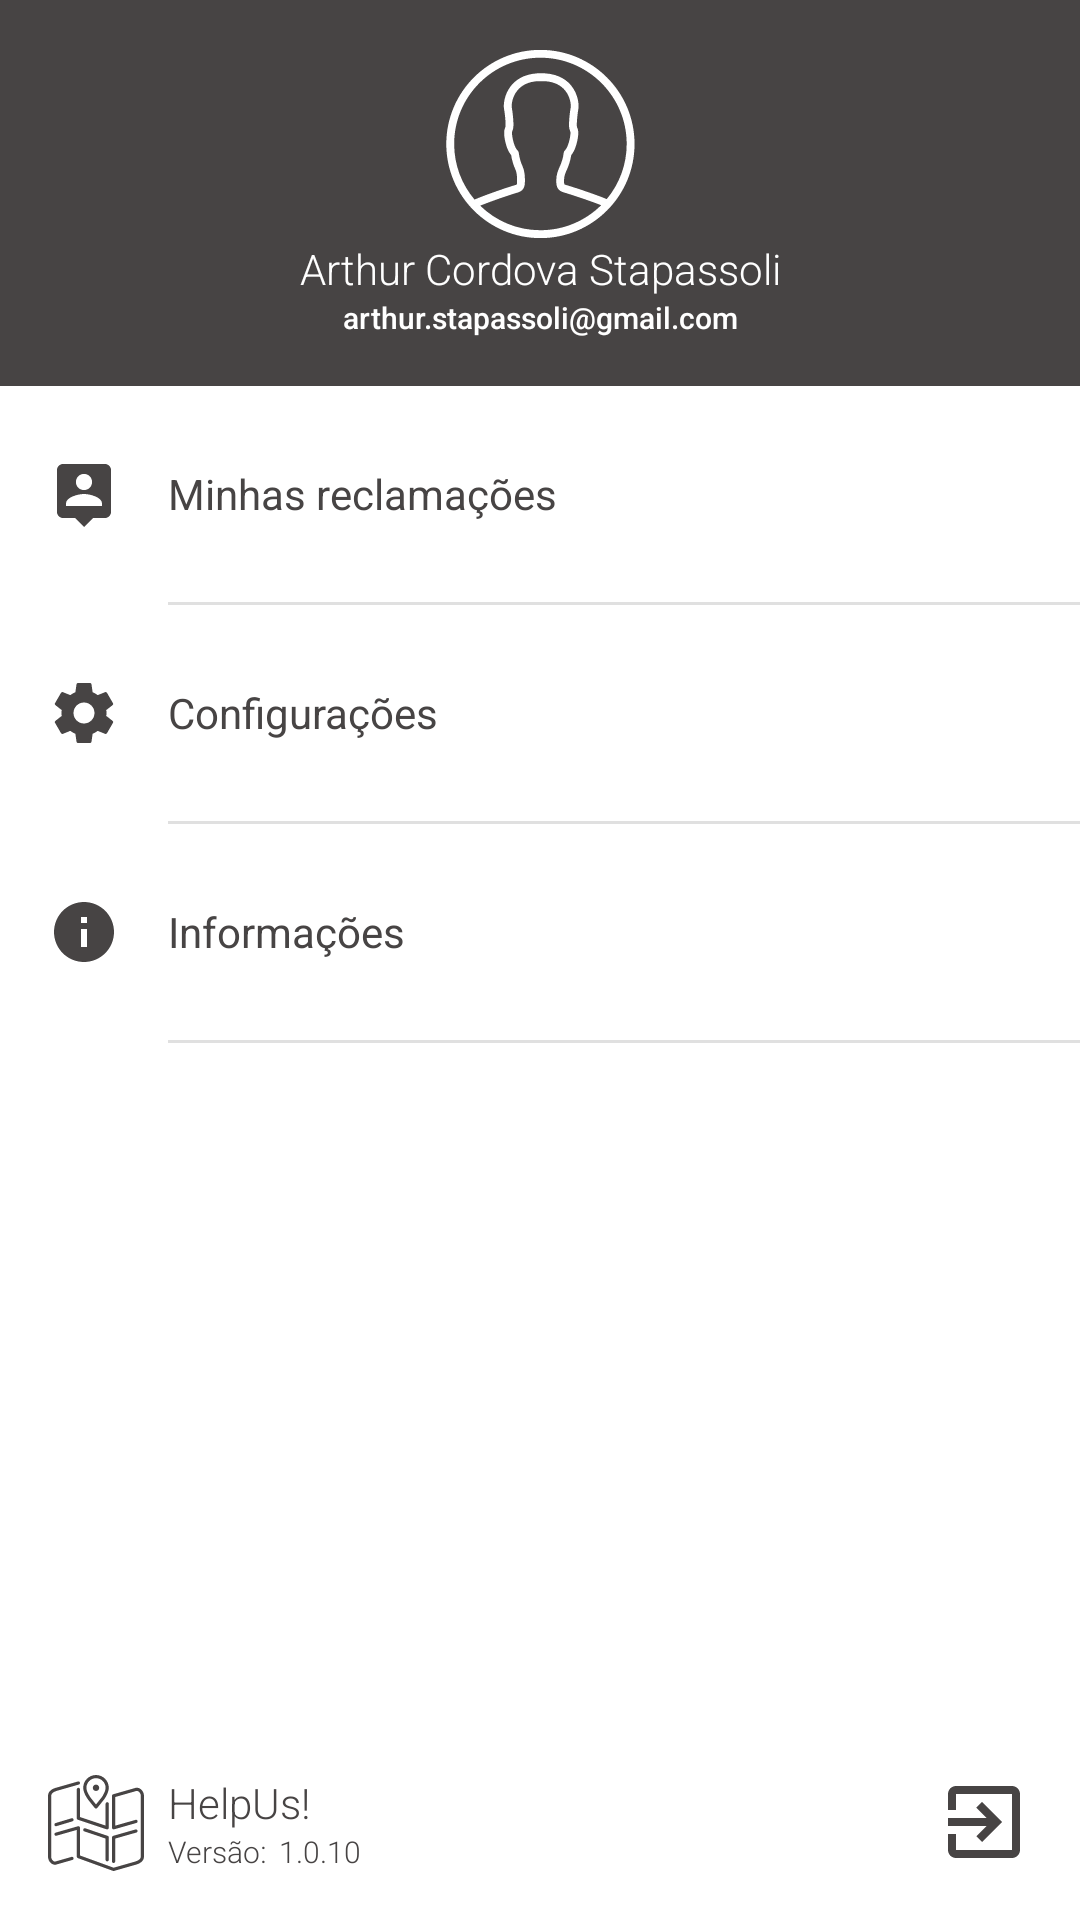

Icons on this 1080×1920 Android screen, each with its box as box=[x1, y1, x2, y2]:
exit to app: box=[948, 1786, 1020, 1858]
person pin: box=[57, 464, 111, 527]
settings: box=[55, 683, 113, 743]
